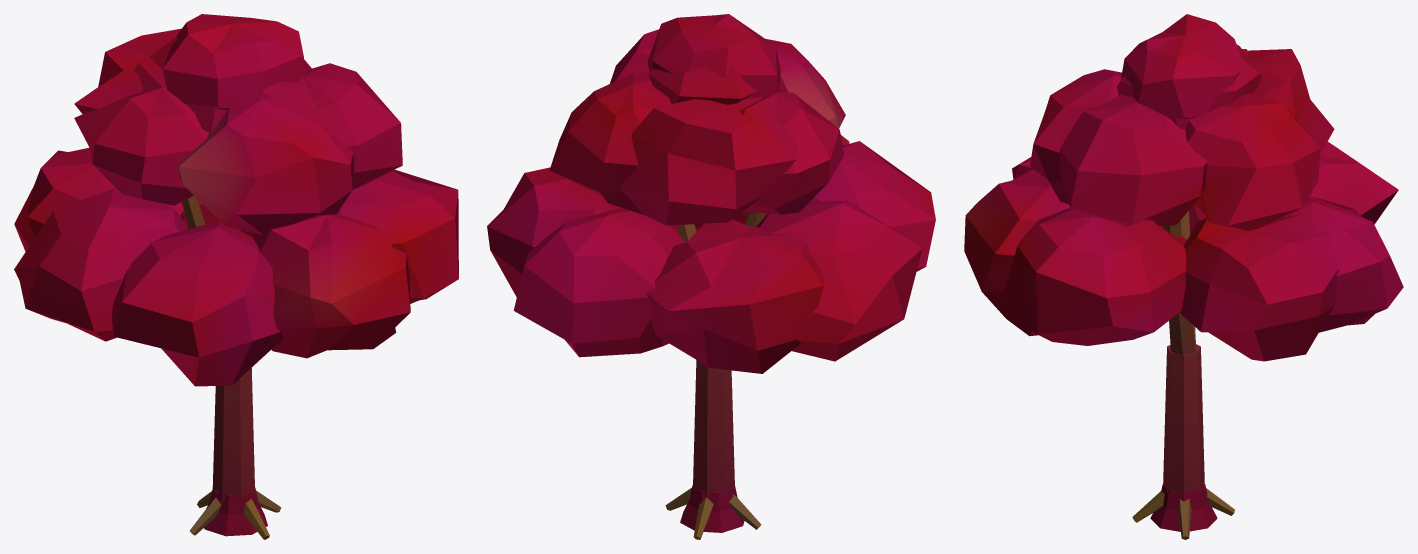
The model's file is Tree_Maple_01.glb.
3 views of the same model, side by side, from view 1: azimuth 30°, elevation 25°; view 2: azimuth 150°, elevation 25°; view 3: azimuth 270°, elevation 25° (orthographic). The views are drawn at different scales.
Visible parts, largest first — view 1: Tree_Maple_01; view 2: Tree_Maple_01; view 3: Tree_Maple_01.
Part boxes in pixels (x1,y1,x2,y2): Tree_Maple_01: [14, 14, 458, 539]; Tree_Maple_01: [487, 14, 935, 539]; Tree_Maple_01: [964, 14, 1403, 539].
Bounding box in the file's own units: 5.96 × 7.39 × 6.08.
